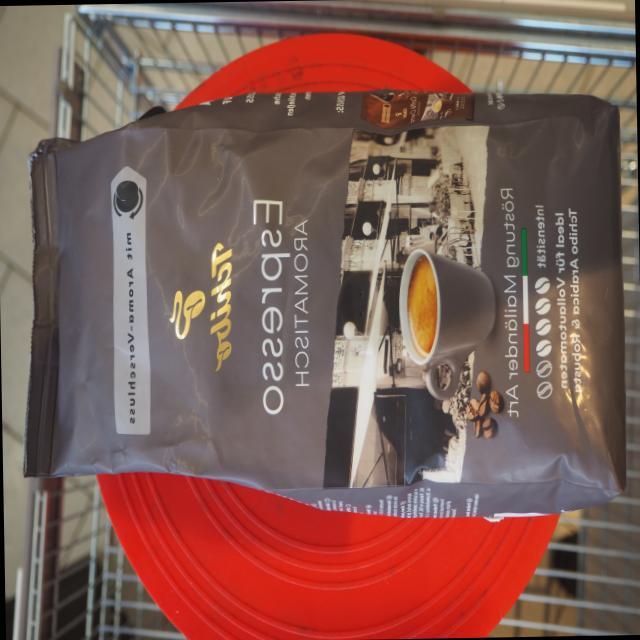Espresso Aromatisch: (10, 79, 631, 532)
